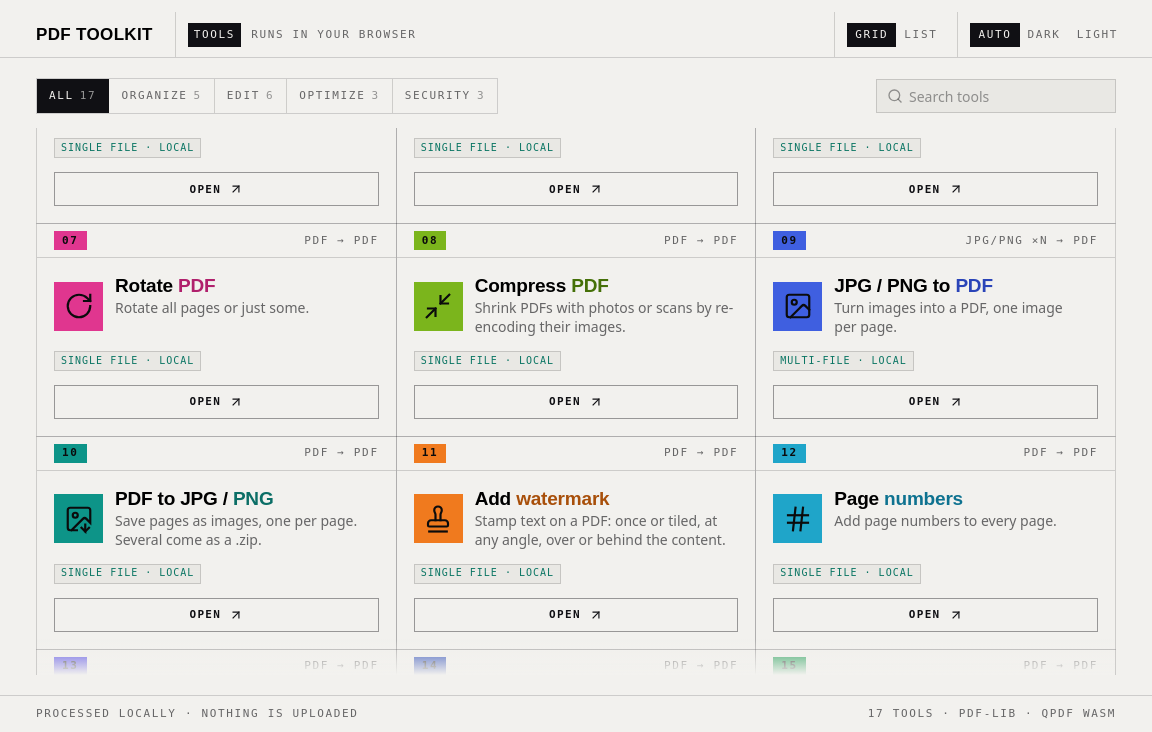
Test case: returns home from the logo
(page scrolled)
Click the button with aria-label "Open Rotate PDF" at (216,402), box x1=54 y1=385 x2=379 y2=419
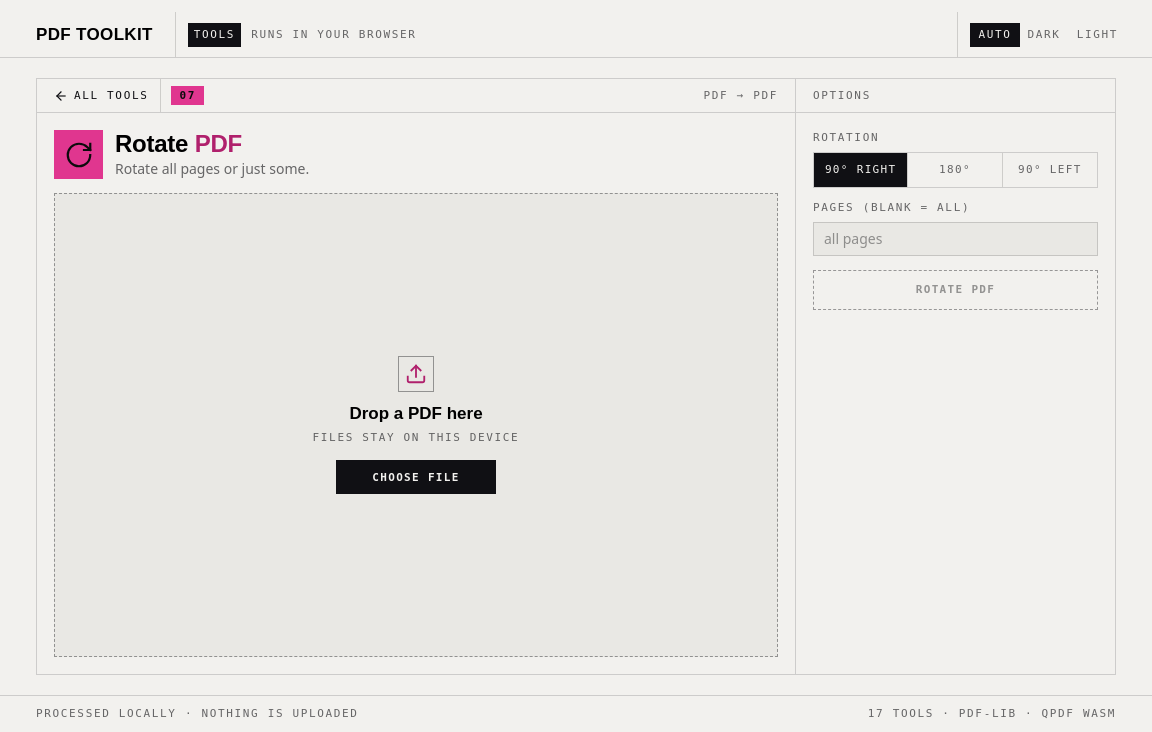
Click the button with aria-label "PDF Toolkit home" at (95,34), box x1=14 y1=12 x2=176 y2=57
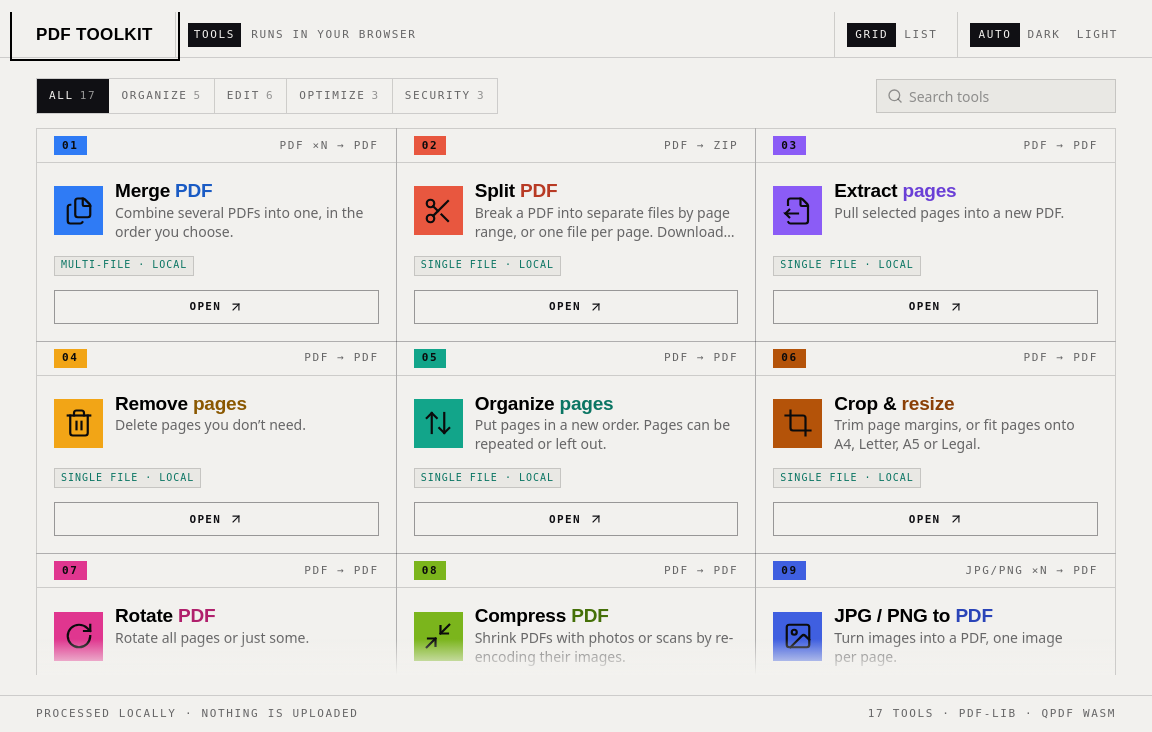
Expected: the search field labelled "Search tools" is shown, x1=877 y1=80 x2=1115 y2=112
